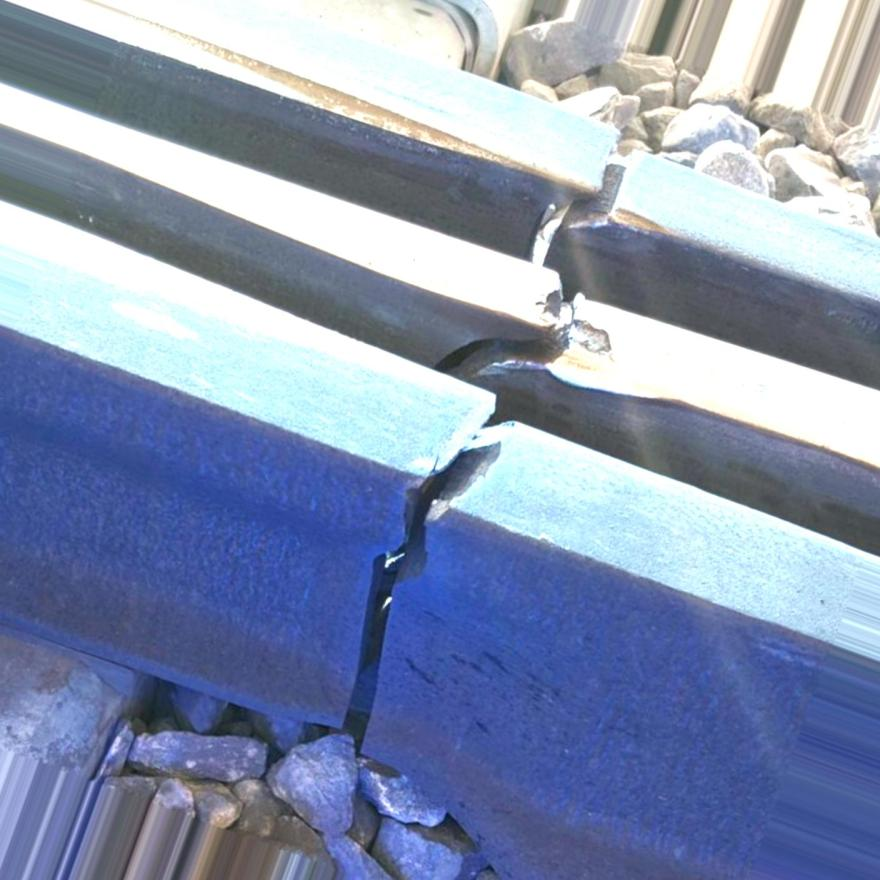railway-gap: (186, 366, 608, 776)
